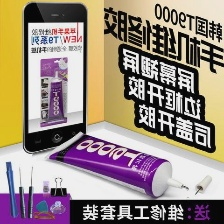phone: (17, 0, 90, 157)
